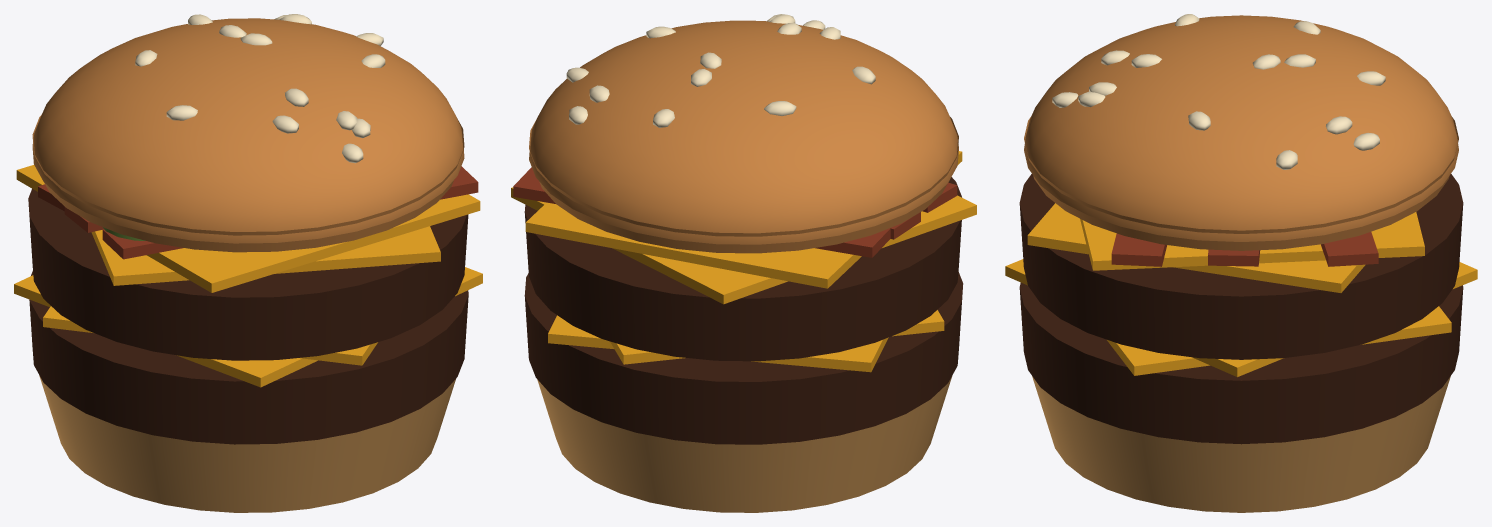
The model's file is burger-res-doble.glb.
3 renders of one model, left to right at view 1: azimuth 30°, elevation 25°; view 2: azimuth 150°, elevation 25°; view 3: azimuth 270°, elevation 25°, orthographic.
Size of the model in its own units: 0.1684 by 0.152 by 0.1684.
